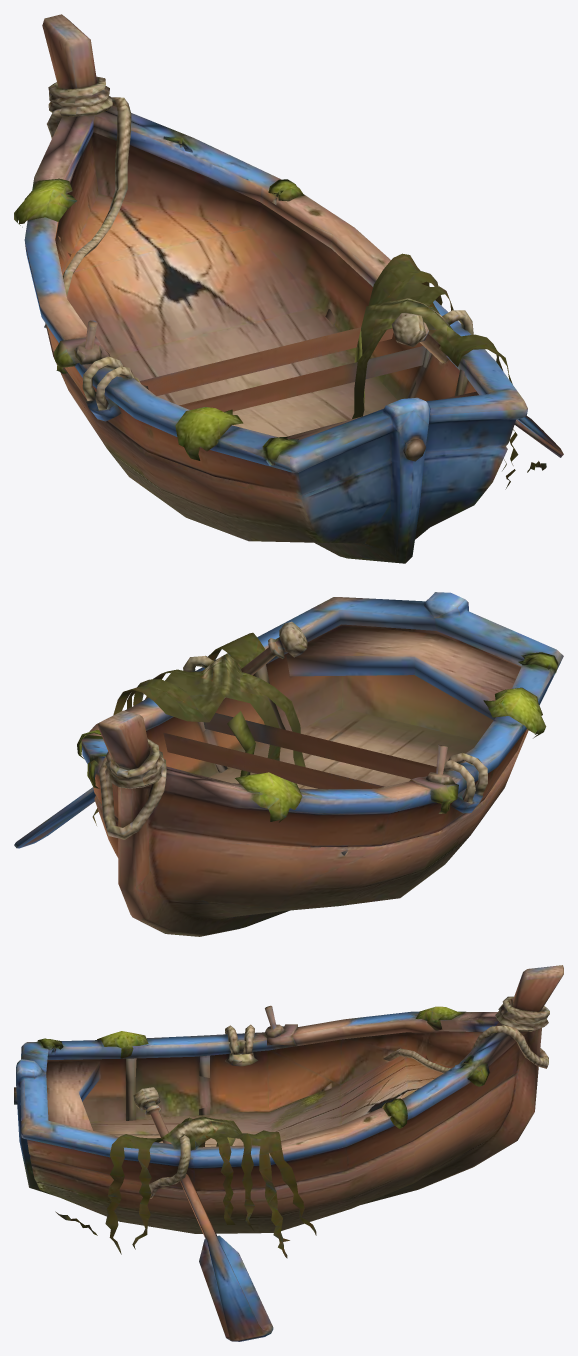
The model's file is wyn_quest_broken_lifeboat.glb.
The picture shows the model from 3 angles, top to bottom: view 1: azimuth 30°, elevation 25°; view 2: azimuth 150°, elevation 25°; view 3: azimuth 270°, elevation 25°; orthographic projection. The views are drawn at different scales.
Visible parts, largest first — view 1: tripo_node_fb3ef7d1-3180-413d-8495-e4611d98d883; view 2: tripo_node_fb3ef7d1-3180-413d-8495-e4611d98d883; view 3: tripo_node_fb3ef7d1-3180-413d-8495-e4611d98d883.
Boxes of the visible parts, x1,y1,x2,y2 form: tripo_node_fb3ef7d1-3180-413d-8495-e4611d98d883: (14, 14, 563, 563); tripo_node_fb3ef7d1-3180-413d-8495-e4611d98d883: (14, 592, 563, 936); tripo_node_fb3ef7d1-3180-413d-8495-e4611d98d883: (14, 965, 563, 1341).
Bounding box in the file's own units: 1.83 × 1.3 × 2.43.
Materials: 1 (1 with a texture image).
